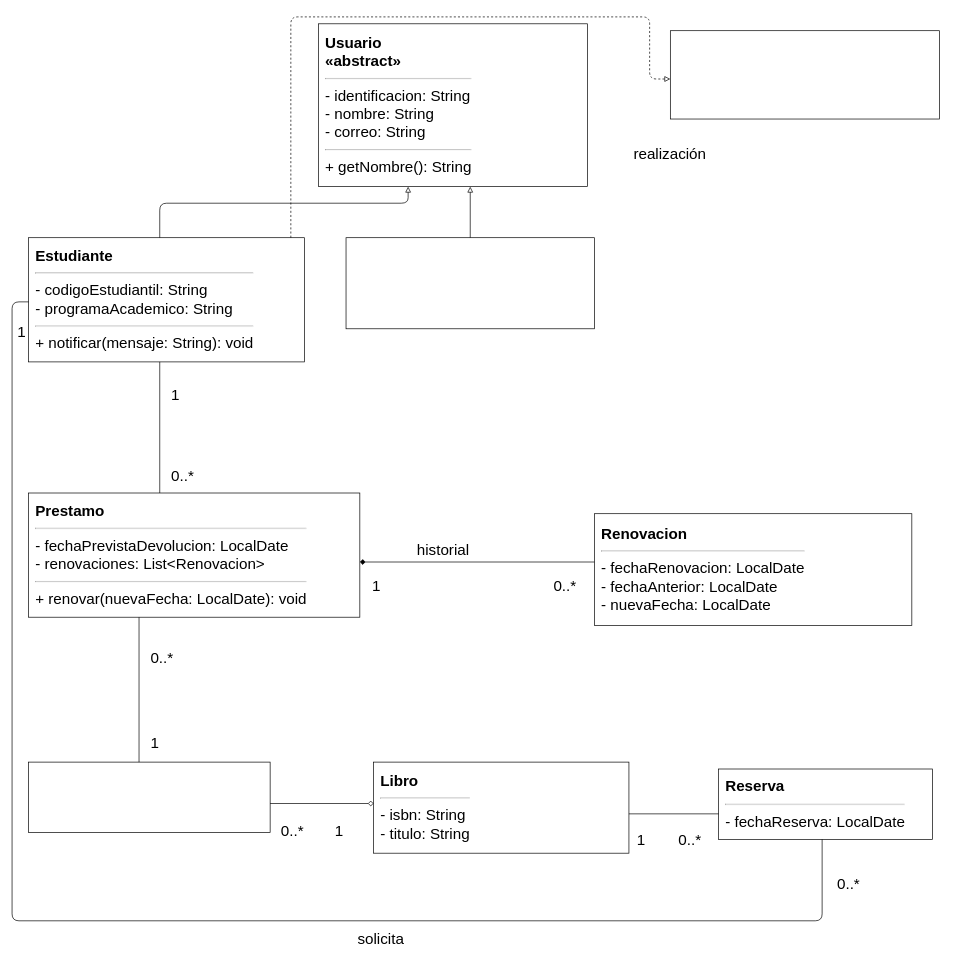
Some shapes in this 979 by 960 pixel diagram are drawn without their labels. The centre of each missing label's shape, as x and y in pixels:
"Bibliotecario - codigoEmpleado: String - turno: String" goes at (x=469, y=283).
"Ejemplar - codigo: String" goes at (x=149, y=796).
"«interface» Notificable + notificar(mensaje: String): void" goes at (x=804, y=74).
